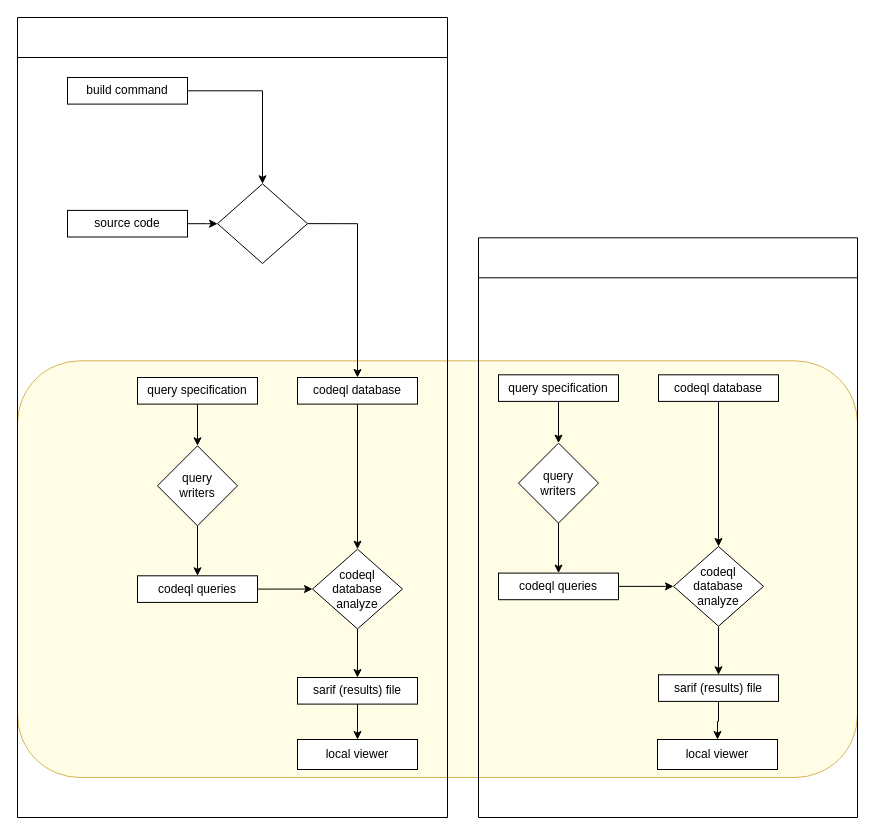
The diagram is 875 pixels wide and 835 high, and some of its shapes have lost their labels. Each missing label, with the box of its shape:
codeql database create: (216, 183, 308, 264)
CodeQL query development sequence, from scratch: (16, 16, 448, 818)
CodeQL query development sequence, using CI artifacts: (478, 237, 858, 818)
